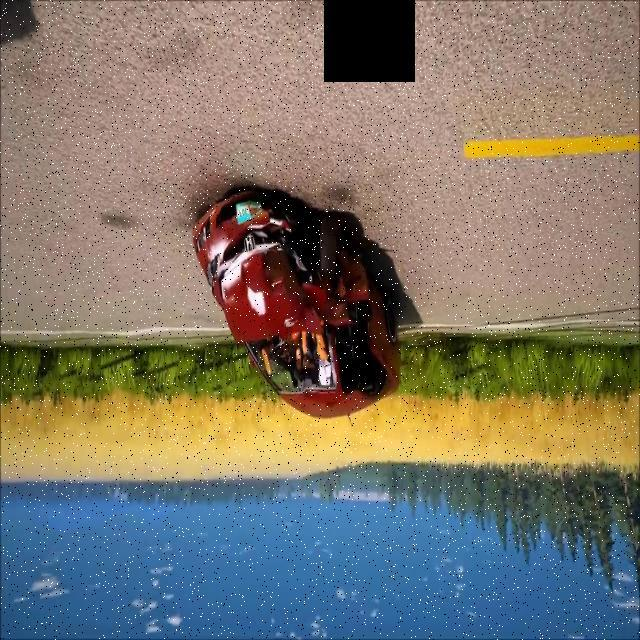severe: (187, 185, 406, 422)
